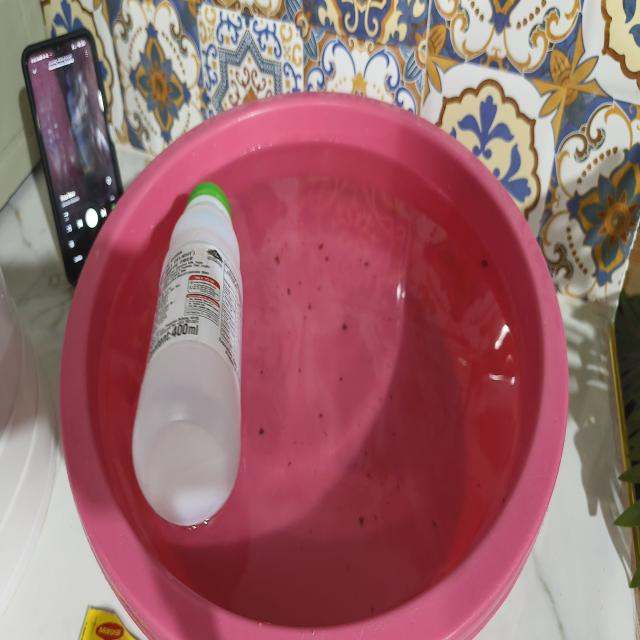Plastic Bottle: (114, 139, 264, 569)
